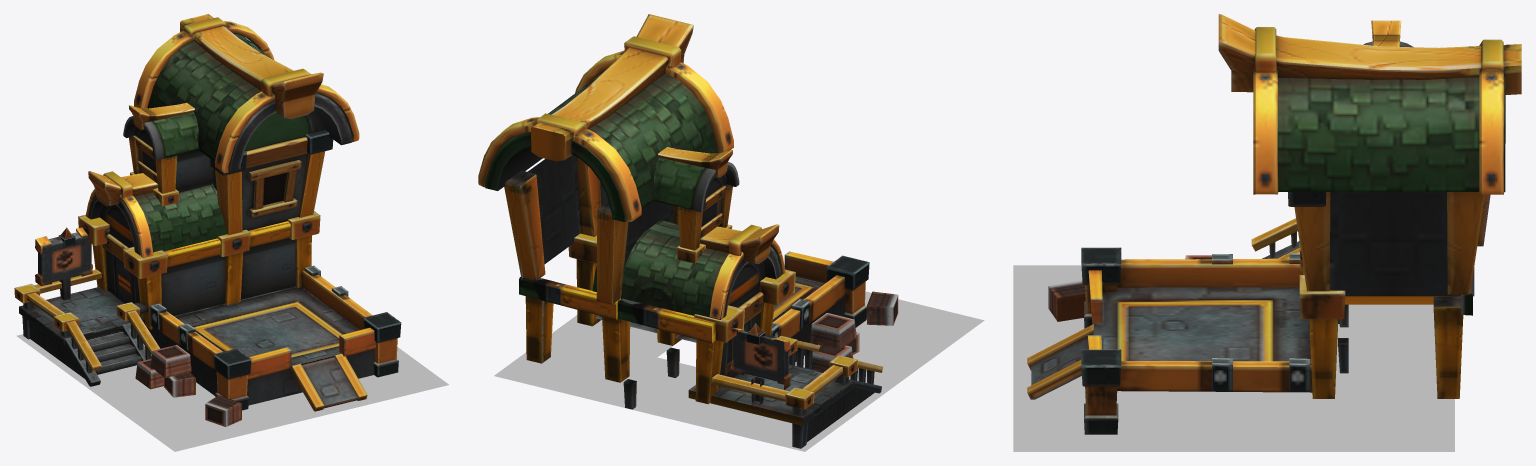
The model's file is C_StorageHouse_LV6.fbx.
The picture shows the model from 3 angles, left to right: view 1: azimuth 30°, elevation 25°; view 2: azimuth 150°, elevation 25°; view 3: azimuth 270°, elevation 25°; orthographic projection. The views are drawn at different scales.
Parts seen in each view (by area): view 1: Storage_house_LV06_0_mesh, Storage_house_LV06_1_mesh; view 2: Storage_house_LV06_0_mesh, Storage_house_LV06_1_mesh; view 3: Storage_house_LV06_0_mesh, Storage_house_LV06_1_mesh.
Boxes of the visible parts, left/top/right/bottom form: Storage_house_LV06_0_mesh: left=14, top=14, right=401, bottom=426; Storage_house_LV06_1_mesh: left=16, top=332, right=448, bottom=451; Storage_house_LV06_0_mesh: left=478, top=14, right=898, bottom=448; Storage_house_LV06_1_mesh: left=494, top=291, right=984, bottom=451; Storage_house_LV06_0_mesh: left=1027, top=14, right=1521, bottom=434; Storage_house_LV06_1_mesh: left=1013, top=265, right=1454, bottom=451.
Bounding box in the file's own units: 120 × 114 × 138.
